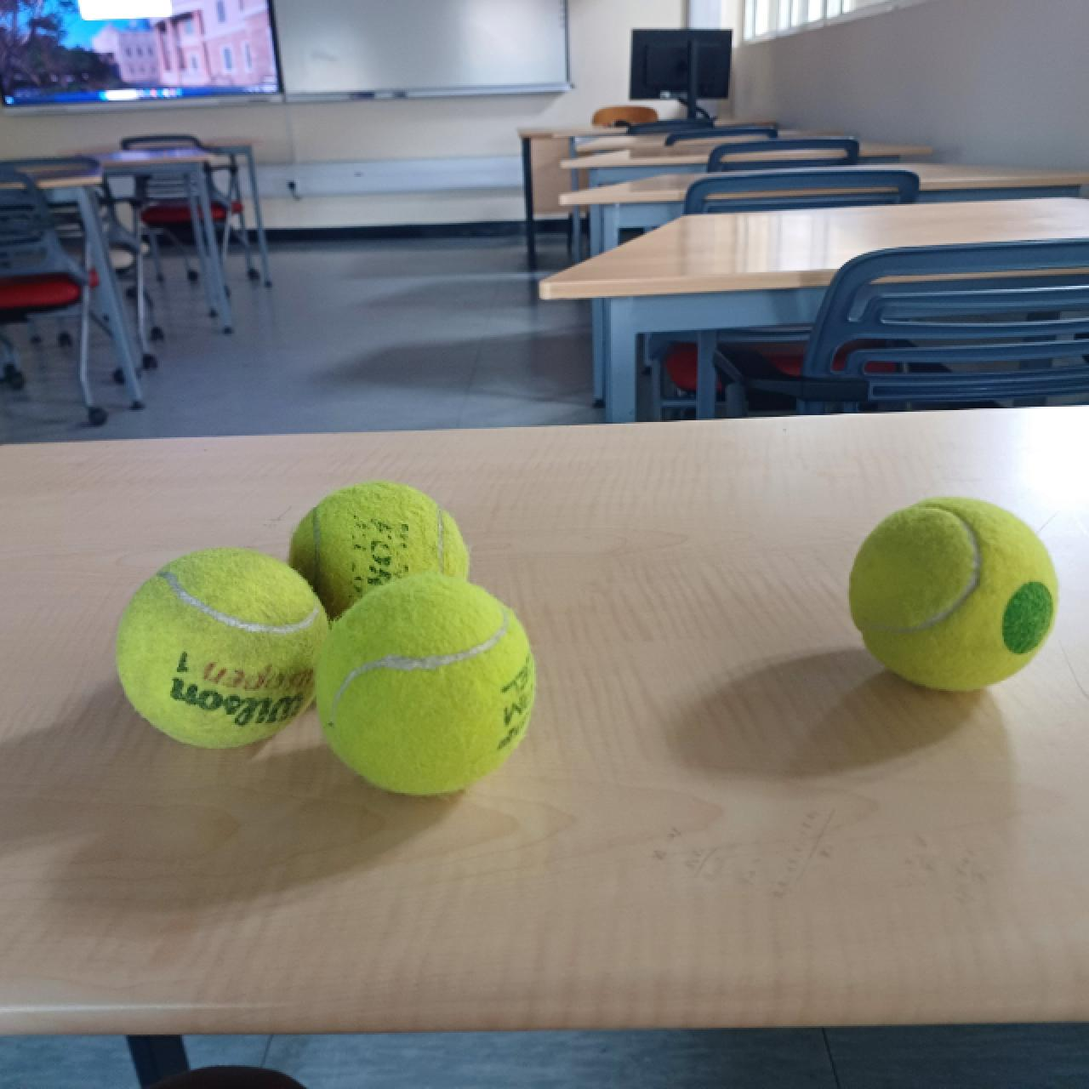tennis-ball: (314, 570, 537, 795), (114, 545, 330, 750), (848, 495, 1057, 692), (285, 478, 472, 653)
